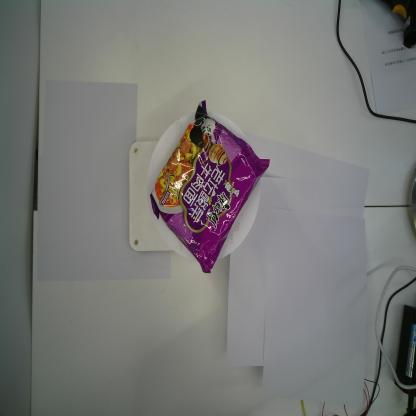Instant Noodles: (148, 98, 270, 275)
